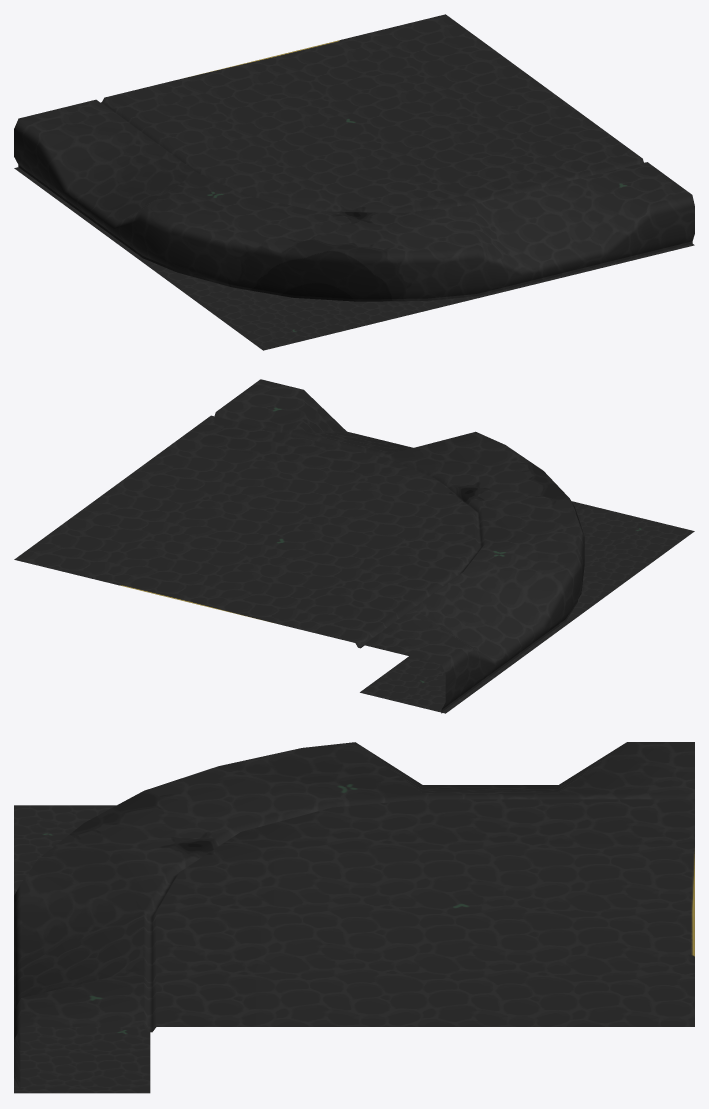
Rendered from calleVeredaEsquina.fbx.
The picture shows the model from 3 angles, top to bottom: view 1: azimuth 30°, elevation 25°; view 2: azimuth 150°, elevation 25°; view 3: azimuth 270°, elevation 25°; orthographic projection. The views are drawn at different scales.
Visible parts, largest first — view 1: VeredaEsquina; view 2: VeredaEsquina; view 3: VeredaEsquina.
Part boxes in pixels (left/top/right/bottom): VeredaEsquina: left=14, top=14, right=694, bottom=350; VeredaEsquina: left=14, top=379, right=694, bottom=713; VeredaEsquina: left=14, top=742, right=694, bottom=1093.
Size of the model in its own units: 5 by 0.551 by 5.
